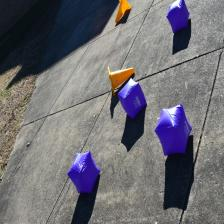cone: (107, 66, 134, 96), (114, 0, 132, 23)
cube: (155, 104, 192, 156), (68, 151, 100, 194), (117, 78, 147, 119), (166, 0, 190, 34)
